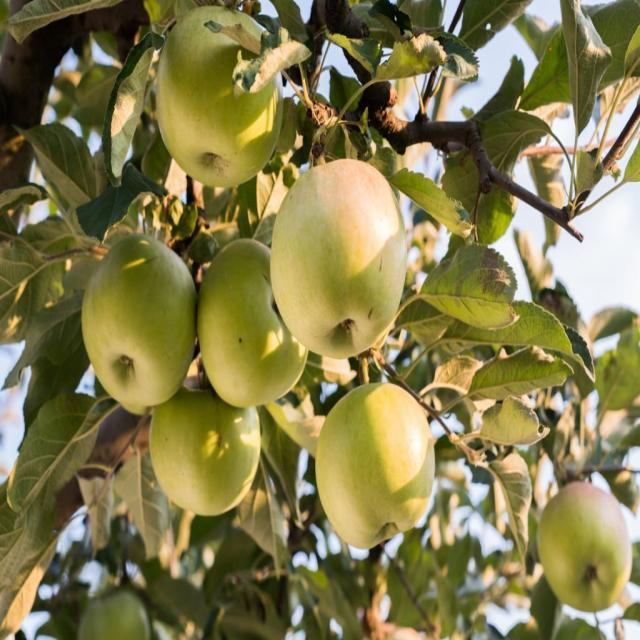Green Apple: (278, 160, 415, 351), (156, 9, 282, 178), (316, 381, 437, 555), (85, 238, 204, 403), (200, 229, 299, 397), (156, 372, 260, 515), (545, 483, 634, 620), (82, 600, 162, 640)
